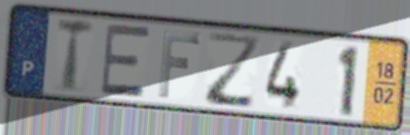1: (335, 43, 362, 119)
4: (262, 40, 303, 112)
E: (99, 23, 152, 100)
F: (156, 28, 203, 101)
T: (55, 15, 97, 95)
Z: (205, 30, 263, 112)
